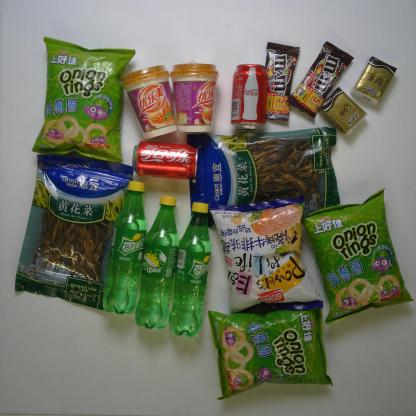Chocolate: (285, 39, 357, 122), (262, 40, 301, 124)
Dried Food: (13, 153, 136, 312), (184, 123, 342, 230)
Drink: (100, 179, 149, 316), (133, 193, 181, 332), (166, 200, 214, 339), (230, 61, 270, 136), (129, 140, 201, 181)
Instant Drink: (119, 62, 179, 142), (168, 61, 221, 135)
Puffed Food: (299, 186, 415, 327), (204, 194, 325, 316), (29, 34, 138, 164), (205, 304, 336, 401)
Tissue: (317, 84, 370, 138), (348, 54, 399, 109)
